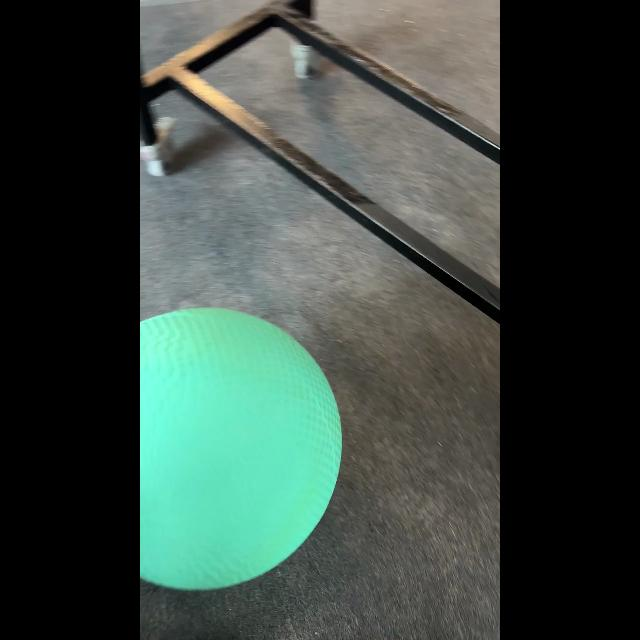ALGAE: (141, 306, 343, 590)
